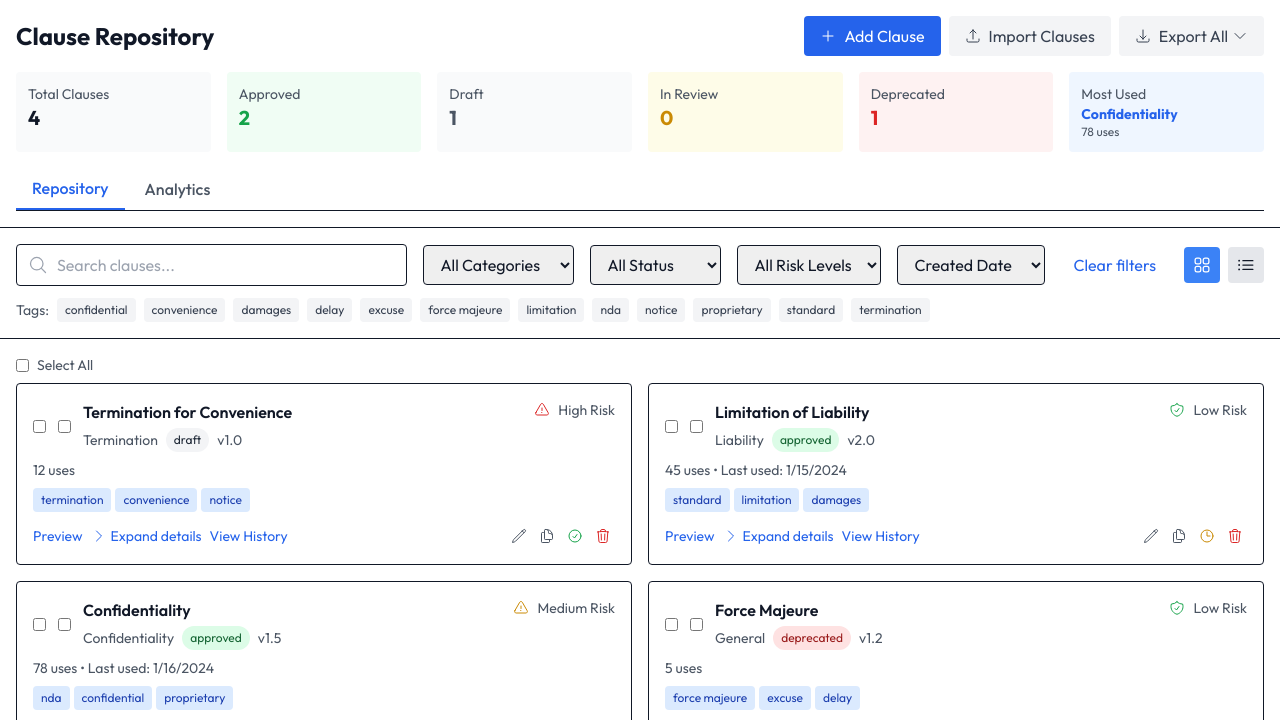
ClauseRepository › Search and Filter › should filter by risk level
Select "High Risk" in the dropdown named "Filter by risk level" at (810, 265), box [738, 245, 882, 285]
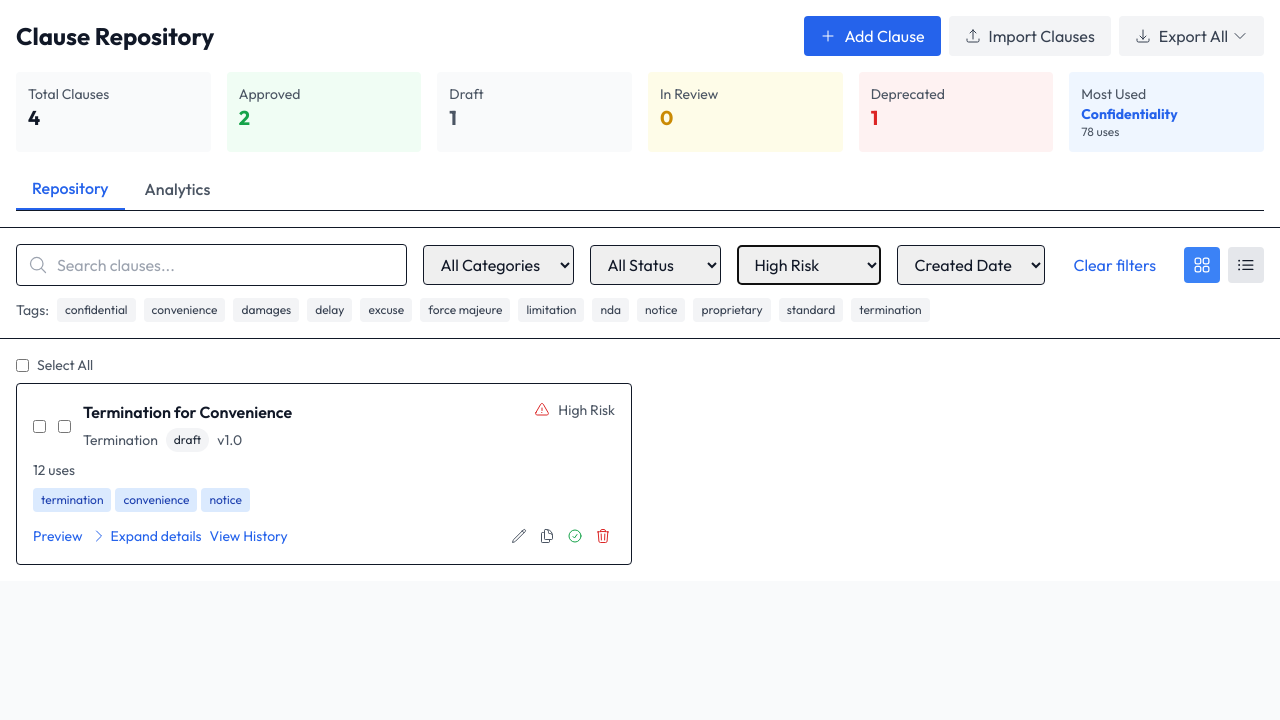
expect the heading "Termination for Convenience" is shown: met, box [83, 400, 292, 424]
expect the heading "Limitation of Liability" is gone: met
